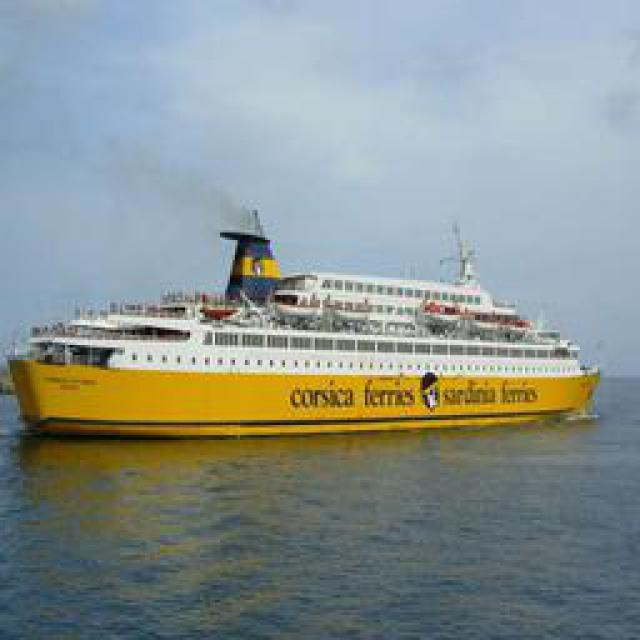Ship: (14, 215, 597, 443)
